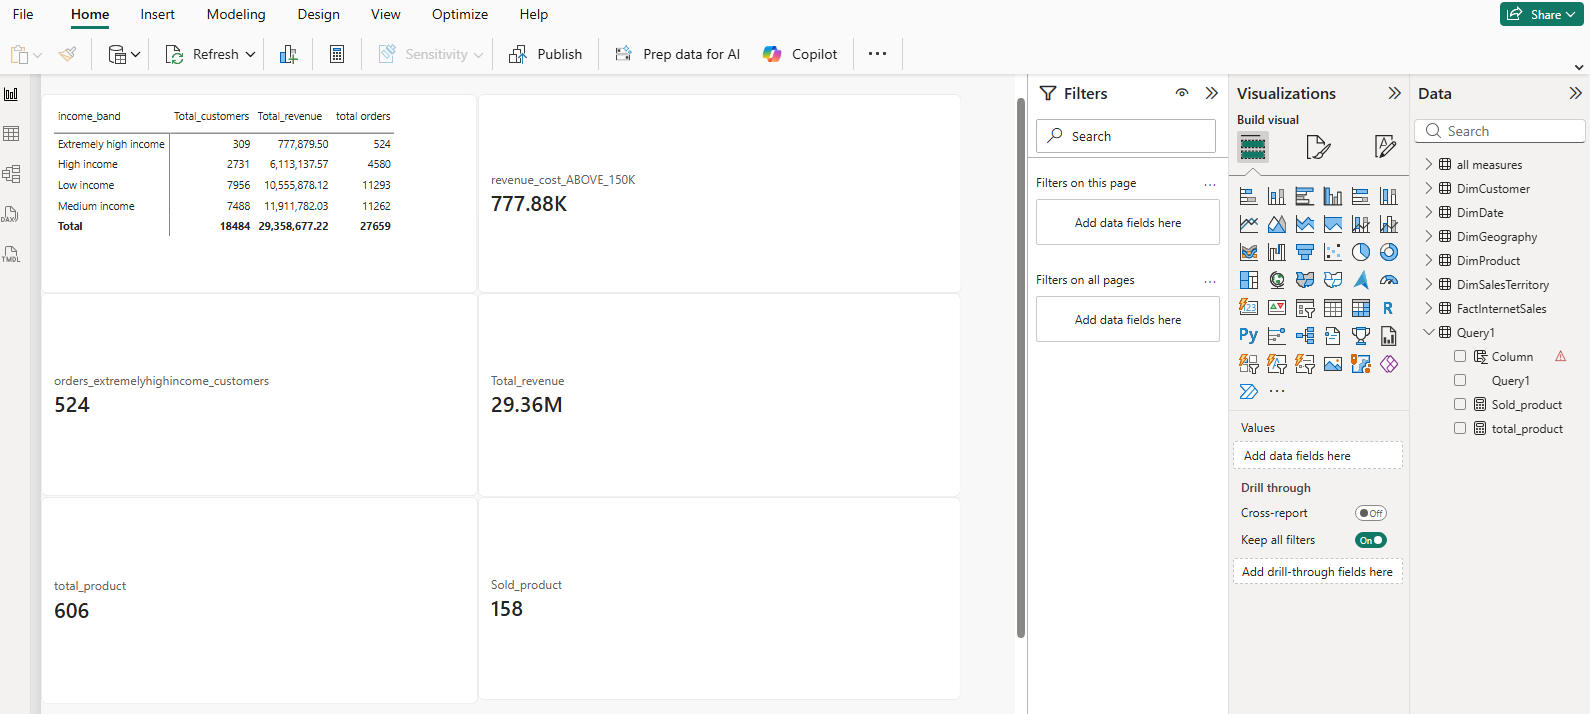

The page's visual inventory and layout, read from the dashboard file:
{"tool":"powerbi","page":{"name":"Page 2","canvas":[1920,1080],"ordinal":1},"visuals":[{"type":"pivotTable","fields":{"Rows":["DimCustomer.income_band"],"Values":["DimCustomer.Total_customers","all measures.Total_revenue","all measures.total orders"]},"box":[0,52,574.5,262.2],"z":0},{"type":"cardVisual","fields":{"Data":["all measures.revenue_cost_ABOVE_150K"]},"box":[574.5,52,636.1,262.2],"z":1},{"type":"cardVisual","fields":{"Data":["all measures.orders_extremelyhighincome_customers"]},"box":[0,314.5,575,267.1],"z":2},{"type":"cardVisual","fields":{"Data":["all measures.Total_revenue"]},"box":[575,314.5,635.5,268.4],"z":3},{"type":"cardVisual","fields":{"Data":["Query1.total_product"]},"box":[0,582.9,575,272.4],"z":4},{"type":"cardVisual","fields":{"Data":["Query1.Sold_product"]},"box":[575,582.9,635.5,267.1],"z":5}]}

Visuals, with their boxes on the page's 1920x1080 design canvas (x1, y1, x2, y2). These are canvas units, not pixel positions in the 1590x714 screenshot, which may show the page scaled, cropped or inside an application window:
pivotTable - DimCustomer.income_band x DimCustomer.Total_customers: (0,52,574,314)
cardVisual - all measures.revenue_cost_ABOVE_150K: (574,52,1211,314)
cardVisual - all measures.orders_extremelyhighincome_customers: (0,314,575,582)
cardVisual - all measures.Total_revenue: (575,314,1210,583)
cardVisual - Query1.total_product: (0,583,575,855)
cardVisual - Query1.Sold_product: (575,583,1210,850)
